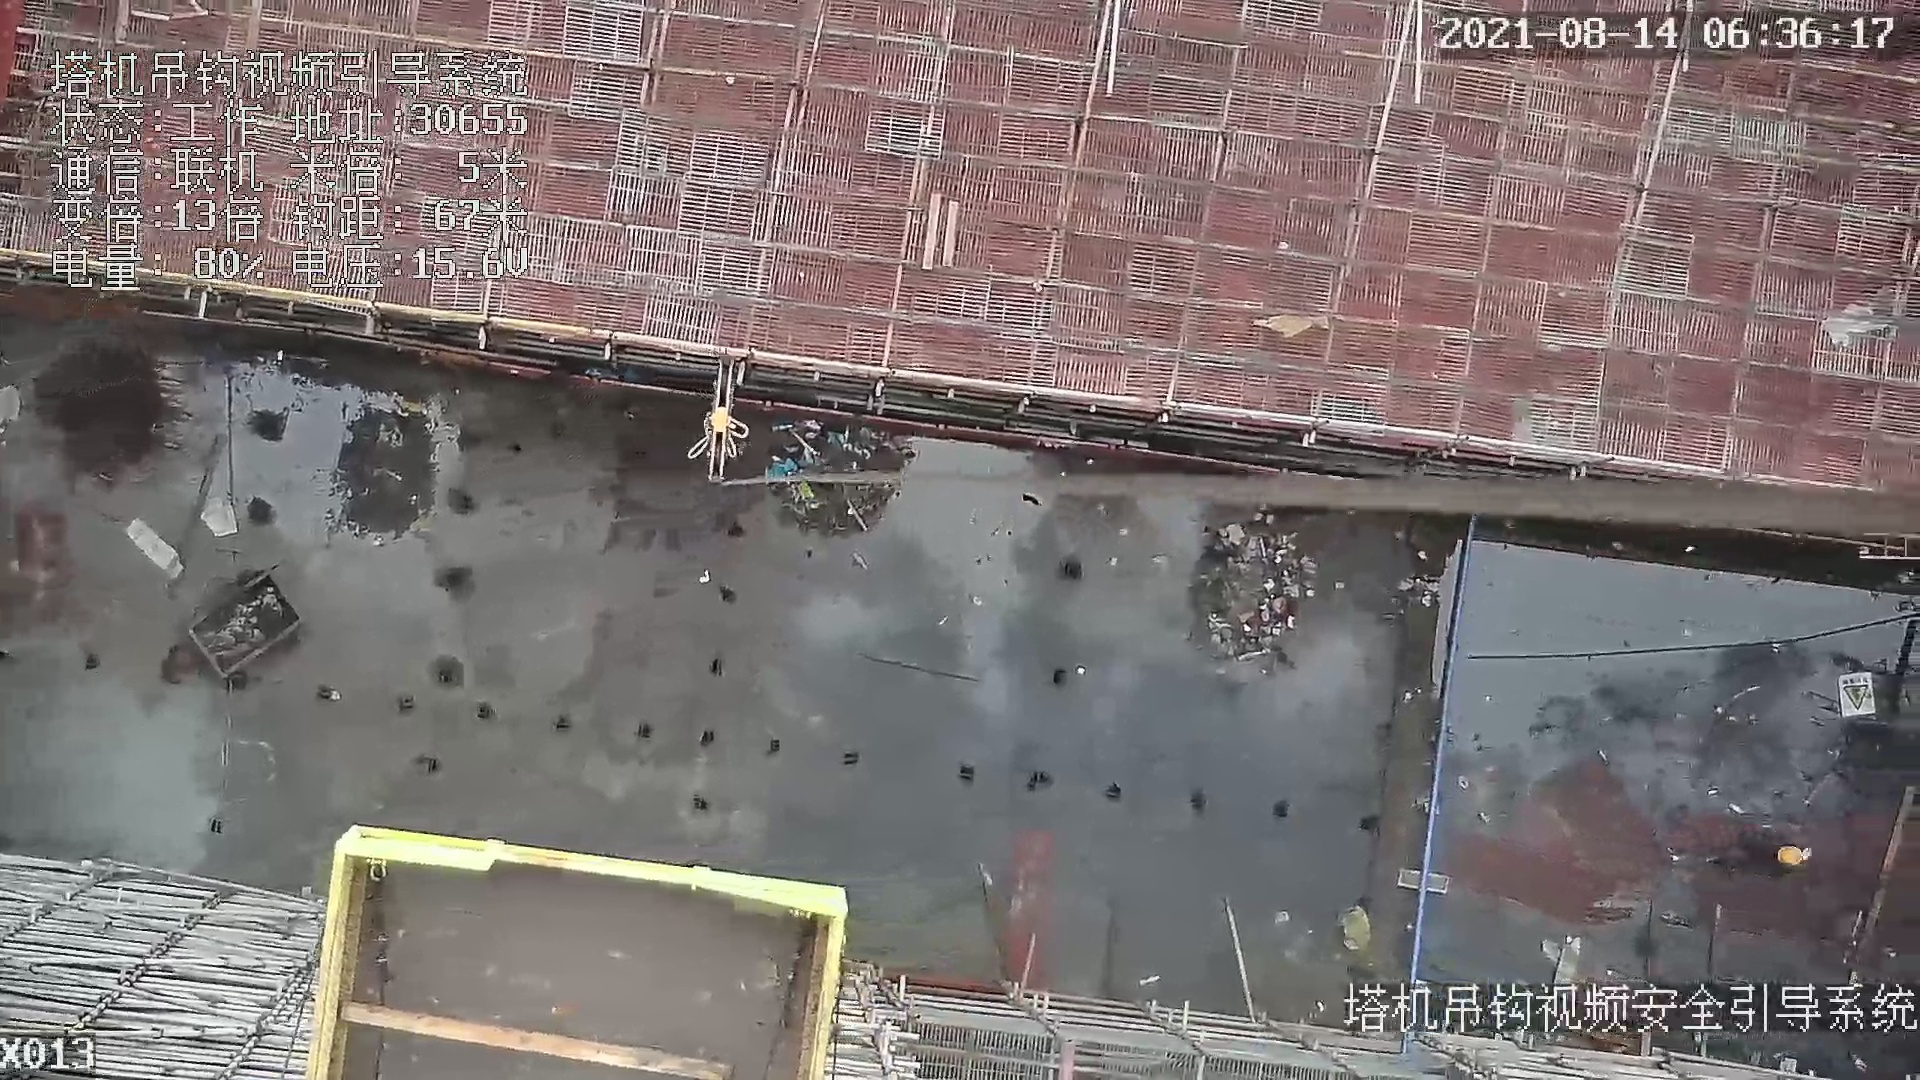helmet: (1778, 847, 1809, 872)
hook: (692, 360, 749, 483)
hopper: (176, 565, 303, 687)
person: (1727, 828, 1814, 881)
